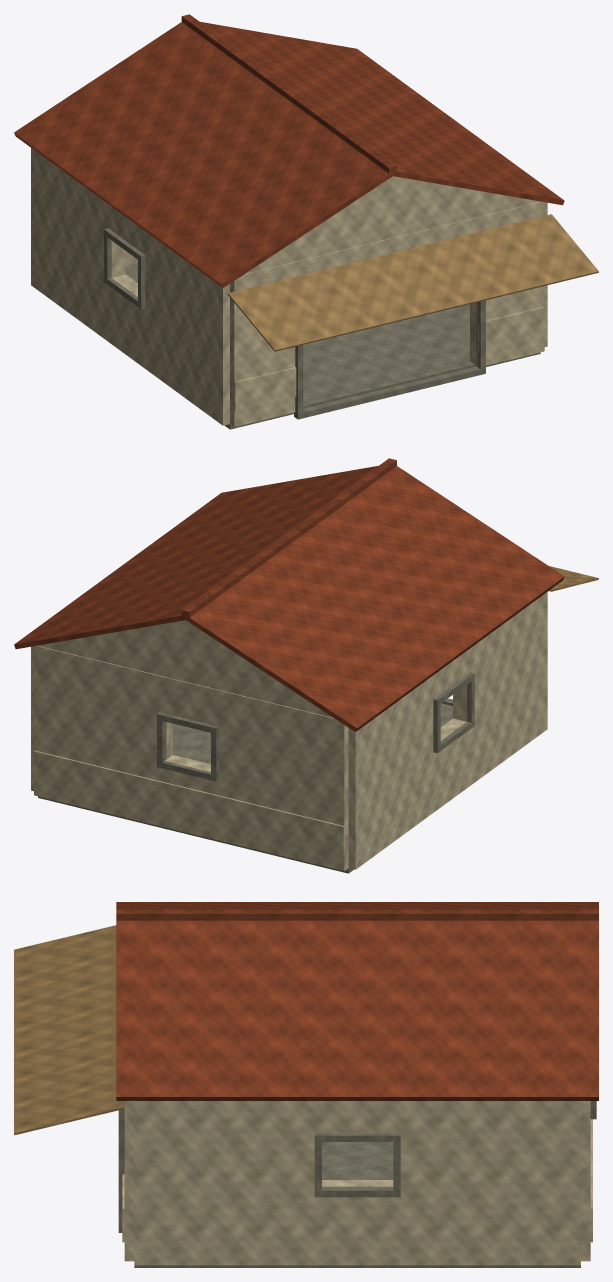
Rendered from taberna_lod2.glb.
The picture shows the model from 3 angles, top to bottom: view 1: azimuth 30°, elevation 25°; view 2: azimuth 150°, elevation 25°; view 3: azimuth 270°, elevation 25°; orthographic projection. The views are drawn at different scales.
Visible parts, largest first — view 1: taberna_lod2; view 2: taberna_lod2; view 3: taberna_lod2.
Boxes of the visible parts, x1=… form: taberna_lod2: x1=14, y1=14, x2=598, y2=429; taberna_lod2: x1=14, y1=458, x2=598, y2=873; taberna_lod2: x1=14, y1=902, x2=598, y2=1267.
Size of the model in its own units: 7.74 by 4.96 by 9.82.
Materials: 4 (4 with a texture image).
